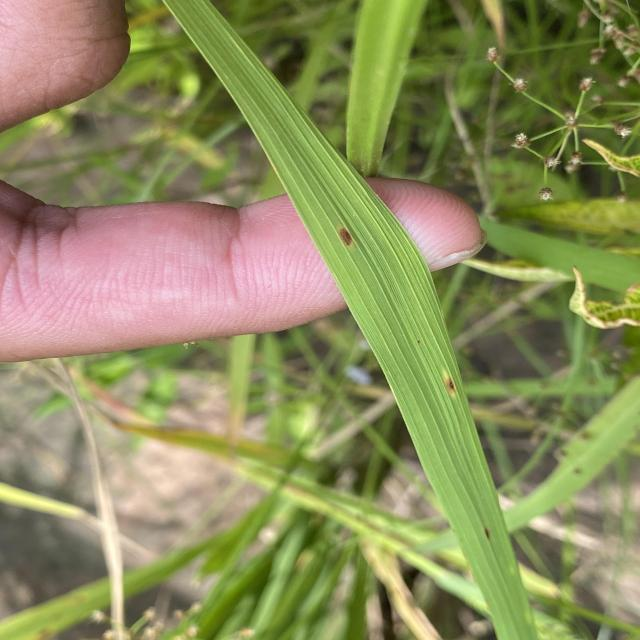Dom nau: (337, 226, 357, 249), (444, 375, 458, 396), (483, 526, 492, 542)
